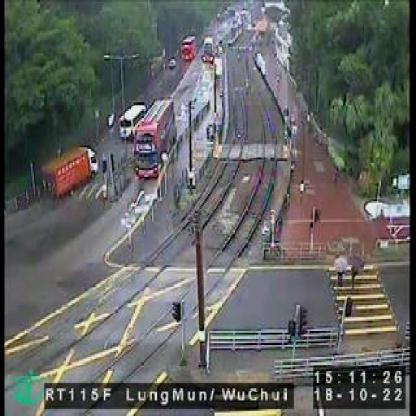Bus: (134, 99, 177, 181), (119, 101, 148, 140), (181, 38, 196, 62)
Car: (168, 57, 178, 71)
Truck: (41, 145, 99, 204)
